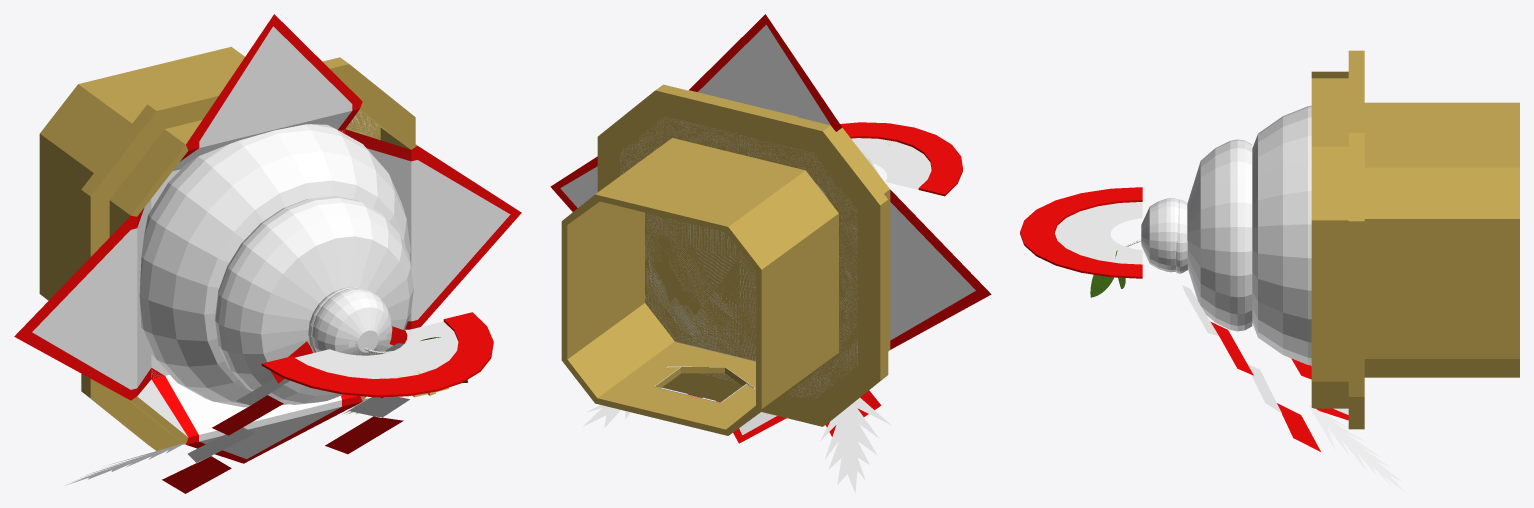
The picture shows the model from 3 angles, left to right: view 1: azimuth 30°, elevation 25°; view 2: azimuth 150°, elevation 25°; view 3: azimuth 270°, elevation 25°; orthographic projection. The views are drawn at different scales.
Parts seen in each view (by area): view 1: japanese new year decoration; view 2: japanese new year decoration; view 3: japanese new year decoration.
Boxes of the visible parts, x1,y1,x2,y2 form: japanese new year decoration: (14, 14, 521, 493); japanese new year decoration: (550, 14, 991, 493); japanese new year decoration: (1020, 50, 1519, 492).
Size of the model in its own units: 192 by 171 by 187.
